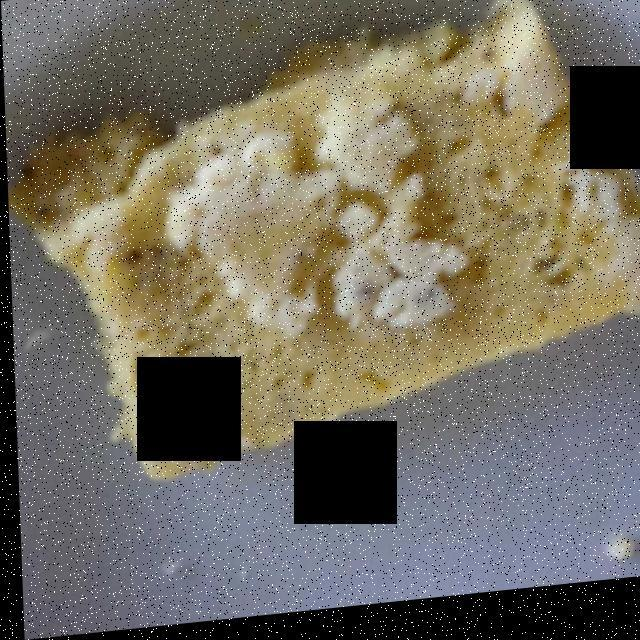bread: (15, 11, 640, 472)
